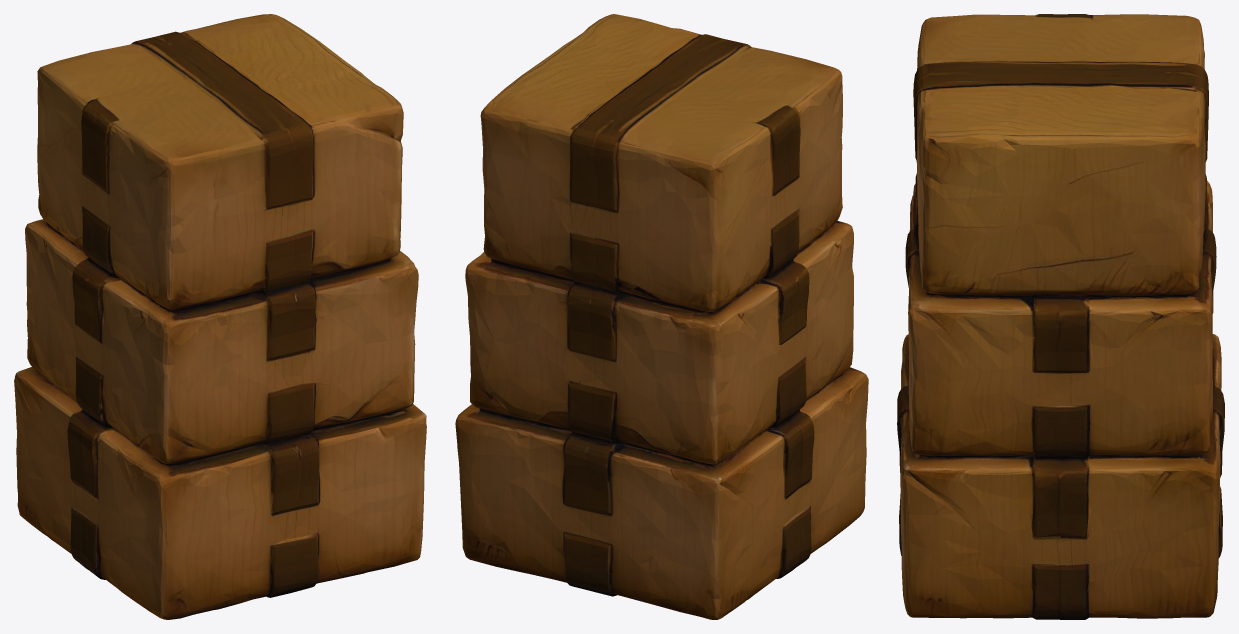
Rendered from boxes_lod0.glb.
3 renders of one model, left to right at view 1: azimuth 30°, elevation 25°; view 2: azimuth 150°, elevation 25°; view 3: azimuth 270°, elevation 25°, orthographic. The views are drawn at different scales.
Visible parts, largest first — view 1: material; view 2: material; view 3: material.
Part boxes in pixels (x1,y1,x2,y2): material: [14, 14, 426, 619]; material: [455, 14, 868, 619]; material: [897, 14, 1224, 619].
Size of the model in its own units: 0.6368 by 0.9999 by 0.6101.
1 material, 1 textured.
